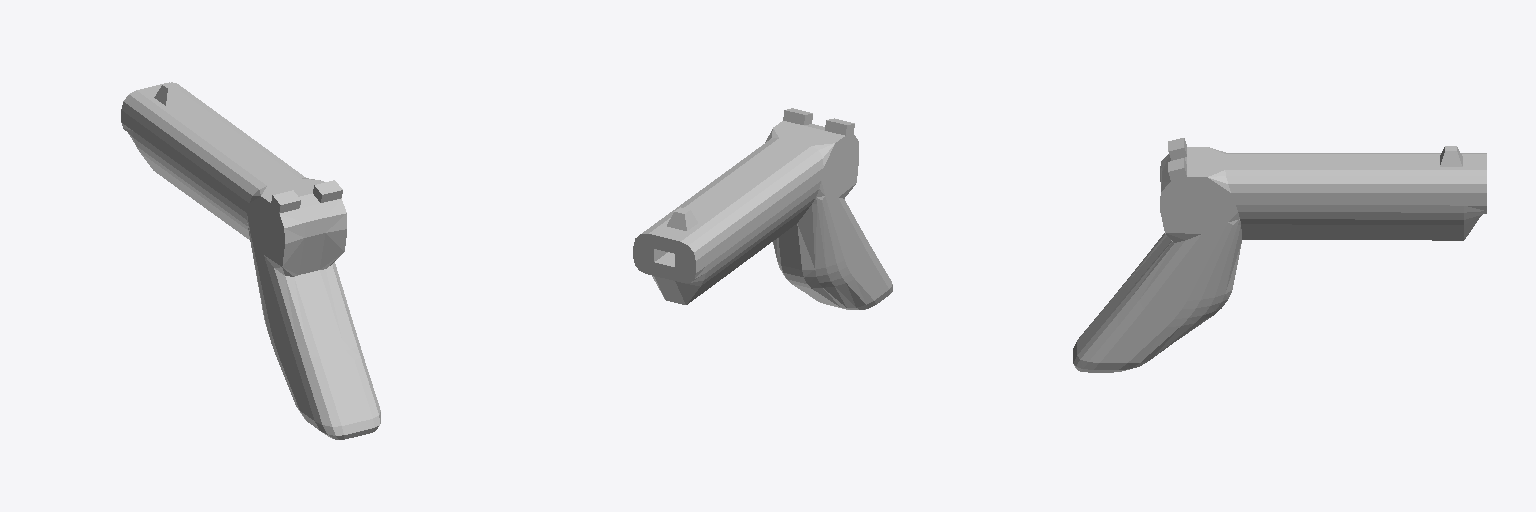
File: basic handgun.obj
The picture shows the model from 3 angles: view 1: azimuth 30°, elevation 25°; view 2: azimuth 150°, elevation 25°; view 3: azimuth 270°, elevation 25°; orthographic projection.
Visible parts, largest first — view 1: Cube; view 2: Cube; view 3: Cube.
Part boxes in pixels (bbox=[...]): Cube: bbox=[121, 82, 380, 439]; Cube: bbox=[633, 108, 892, 309]; Cube: bbox=[1073, 138, 1486, 372].
Size of the model in its own units: 2 by 6.6 by 11.45.